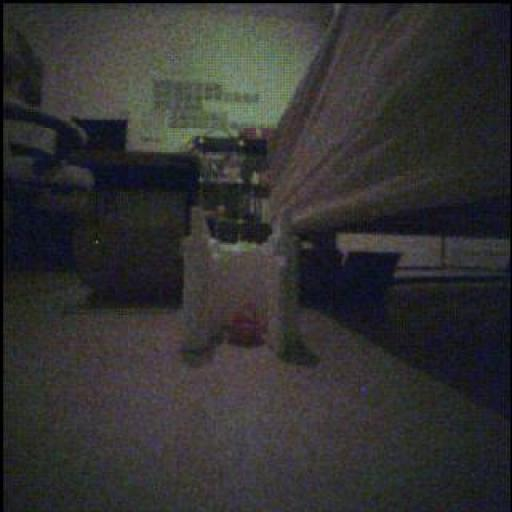basket: (228, 305, 267, 348)
